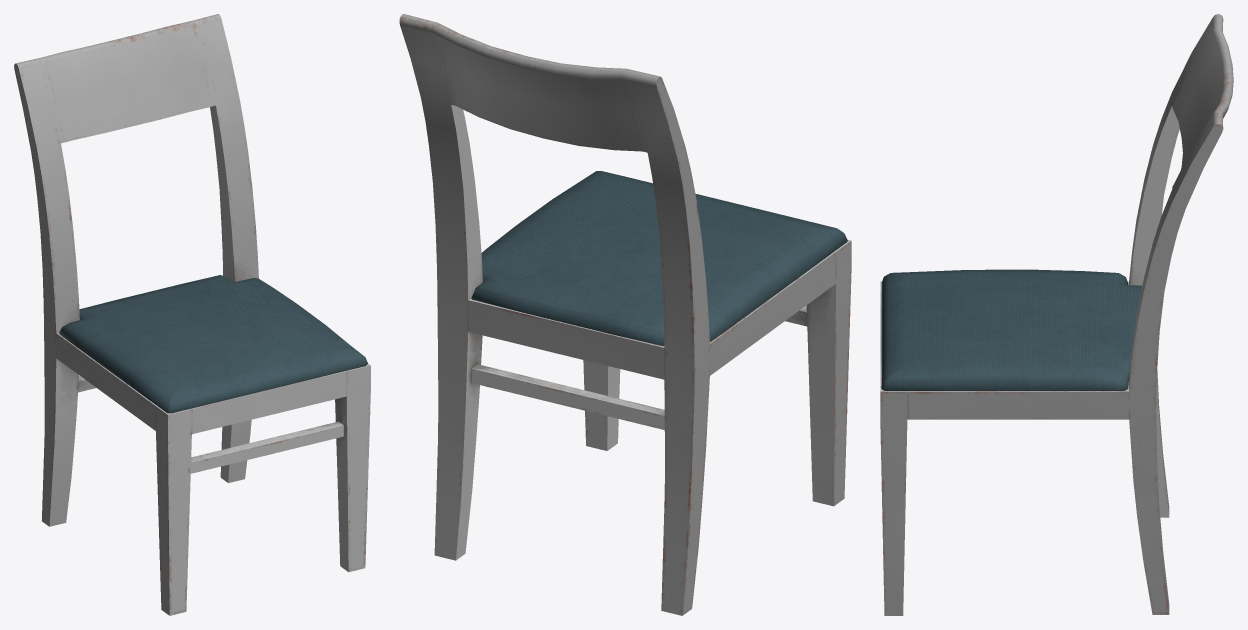
File: kitchen_chair1.glb
3 renders of one model, left to right at view 1: azimuth 30°, elevation 25°; view 2: azimuth 150°, elevation 25°; view 3: azimuth 270°, elevation 25°, orthographic. The views are drawn at different scales.
Visible parts, largest first — view 1: Chair_Kitchen_A_4; view 2: Chair_Kitchen_A_4; view 3: Chair_Kitchen_A_4.
Part boxes in pixels (box(x1,y1,x2,y2)): Chair_Kitchen_A_4: box(14, 14, 370, 615); Chair_Kitchen_A_4: box(399, 14, 851, 615); Chair_Kitchen_A_4: box(880, 14, 1233, 615).
Bounding box in the file's own units: 0.4856 × 1.01 × 0.6579.
1 material, 1 textured.
